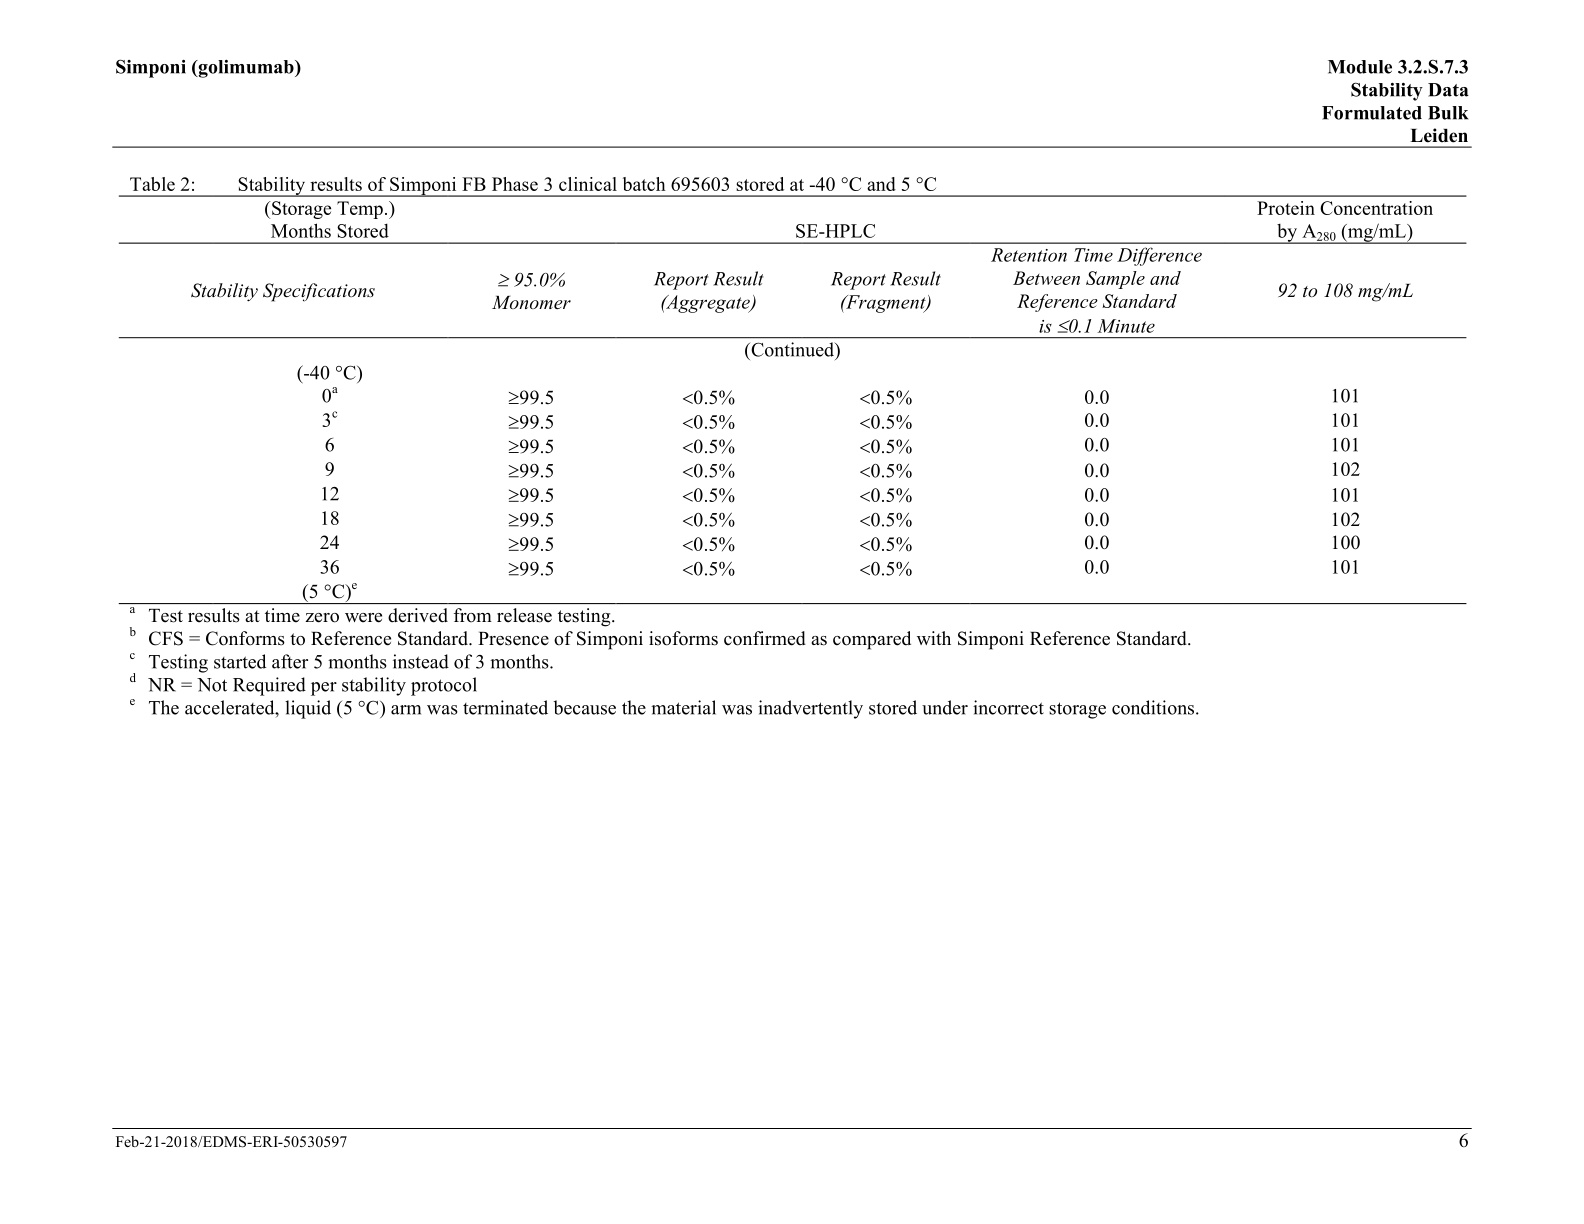partial_lined_merged_cells: (120, 195, 1470, 606)
